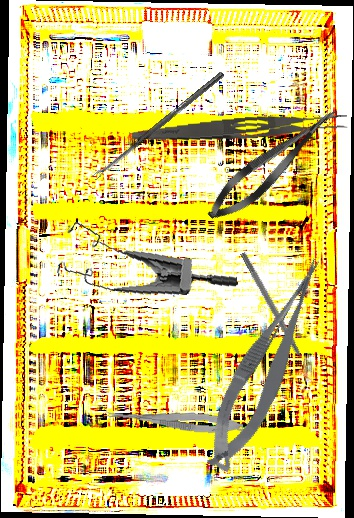Dressing Forceps: (131, 108, 349, 151)
Hook Surgical: (238, 251, 312, 375)
Micro Scissor: (186, 253, 350, 477), (199, 97, 348, 231), (102, 406, 244, 436)
Speculum: (50, 201, 239, 312)
Surgical Spoon: (91, 70, 225, 181)
